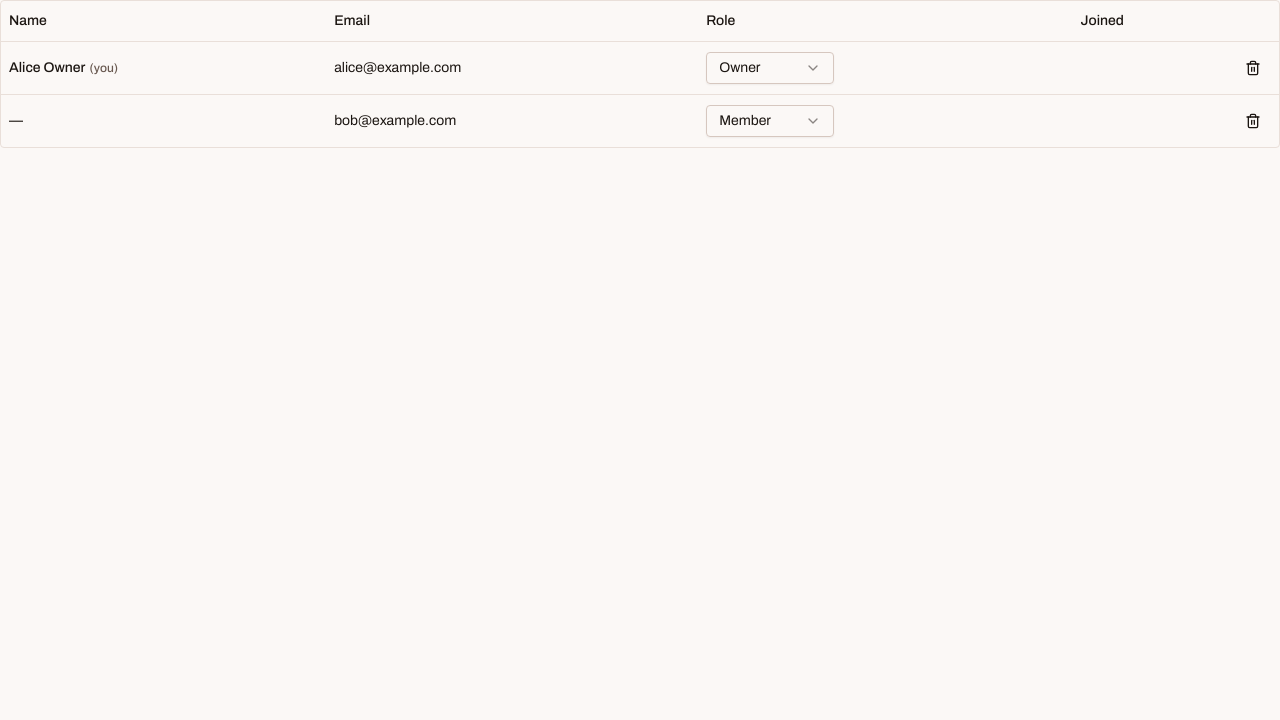
Scenario: MembersTable › shows the API refusal verbatim and does not refresh when removal is refused
Step 1. Click the button named "Remove Alice Owner" → (1253, 68), box top-left (1235, 50), bottom-right (1271, 86)
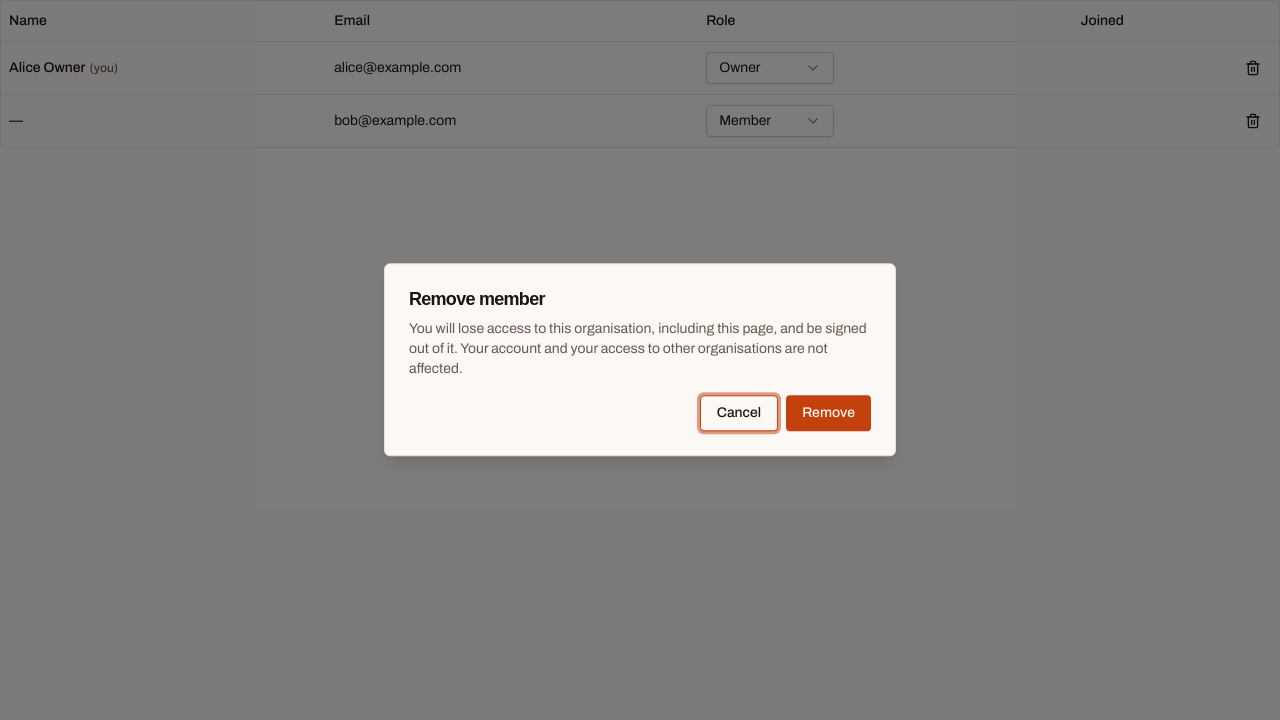
Step 2. Click the button "Remove" → (829, 414), box top-left (786, 396), bottom-right (871, 432)
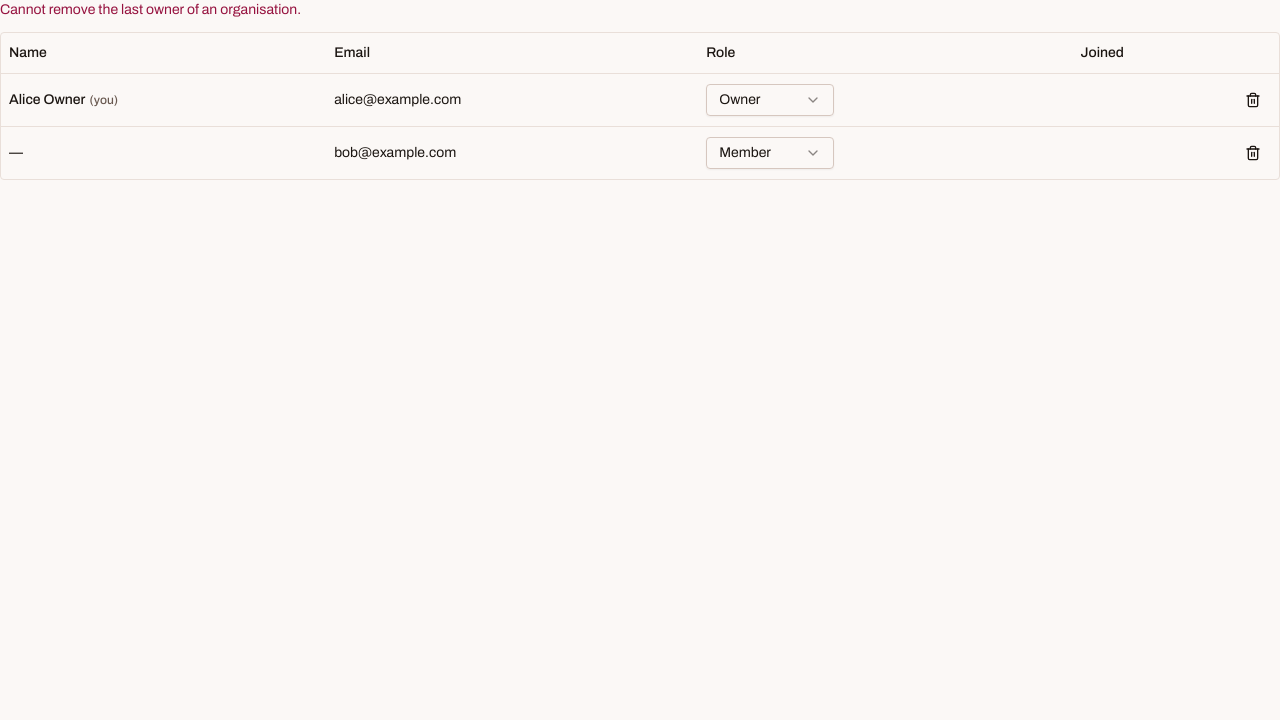
Check: the message reads "Cannot remove the last owner of an organisation.", box top-left (0, 2), bottom-right (301, 17)
